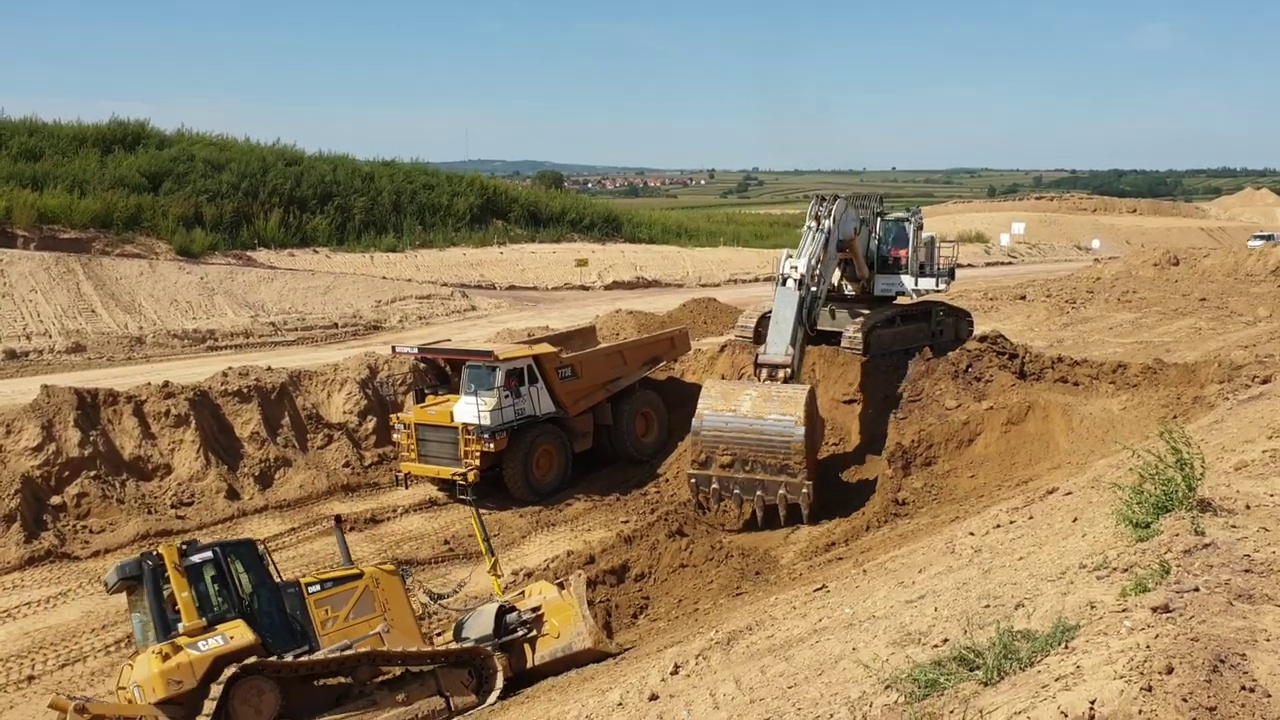bulldozer: (45, 495, 635, 717)
excavator: (690, 186, 973, 527)
truck: (388, 317, 691, 507), (1246, 224, 1280, 253)
